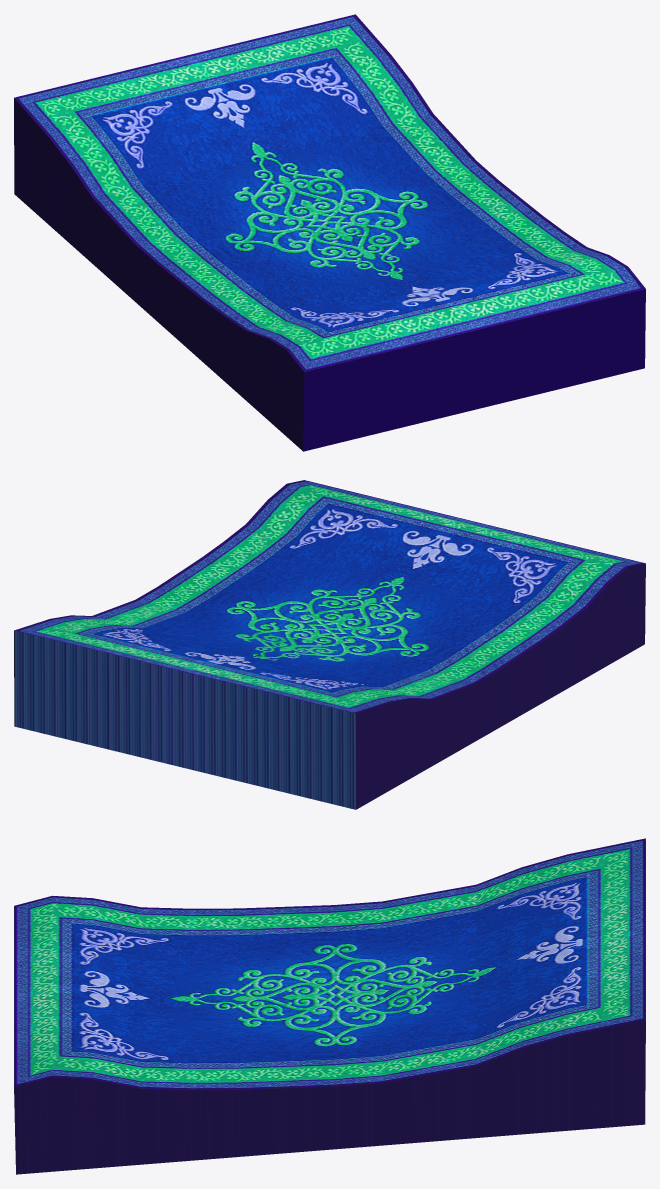
The model's file is VE_JB_Carpet_001_Collider.FBX.
The picture shows the model from 3 angles, top to bottom: view 1: azimuth 30°, elevation 25°; view 2: azimuth 150°, elevation 25°; view 3: azimuth 270°, elevation 25°; orthographic projection. The views are drawn at different scales.
Parts seen in each view (by area): view 1: VE_JB_Carpet_001_Collider; view 2: VE_JB_Carpet_001_Collider; view 3: VE_JB_Carpet_001_Collider.
Part boxes in pixels (x1,y1,x2,y2): VE_JB_Carpet_001_Collider: [14, 14, 645, 451]; VE_JB_Carpet_001_Collider: [14, 480, 645, 809]; VE_JB_Carpet_001_Collider: [14, 838, 645, 1174].
Size of the model in its own units: 106 by 42.26 by 156.
